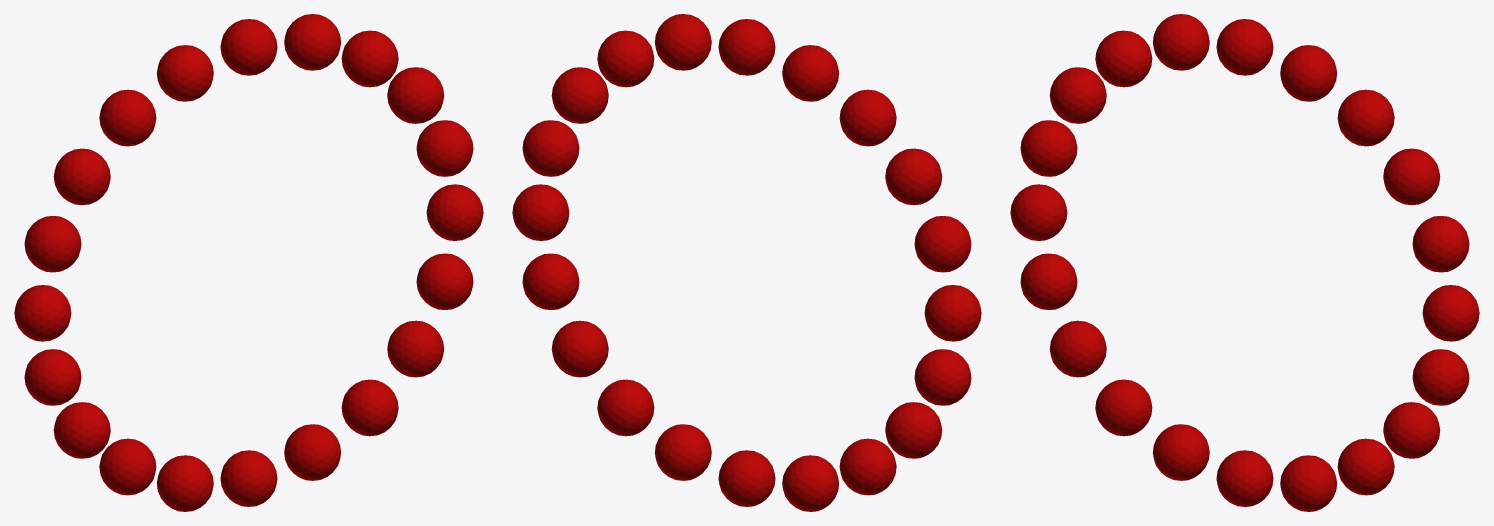
File: korale.glb
3 renders of one model, left to right at view 1: azimuth 30°, elevation 25°; view 2: azimuth 150°, elevation 25°; view 3: azimuth 330°, elevation 25°, orthographic.
Visible parts, largest first — view 1: world; view 2: world; view 3: world.
Part boxes in pixels (left/top/right/bottom): world: left=14, top=14, right=483, bottom=511; world: left=512, top=14, right=981, bottom=511; world: left=1010, top=14, right=1479, bottom=511.
Bounding box in the file's own units: 2.24 × 2.24 × 0.24.
